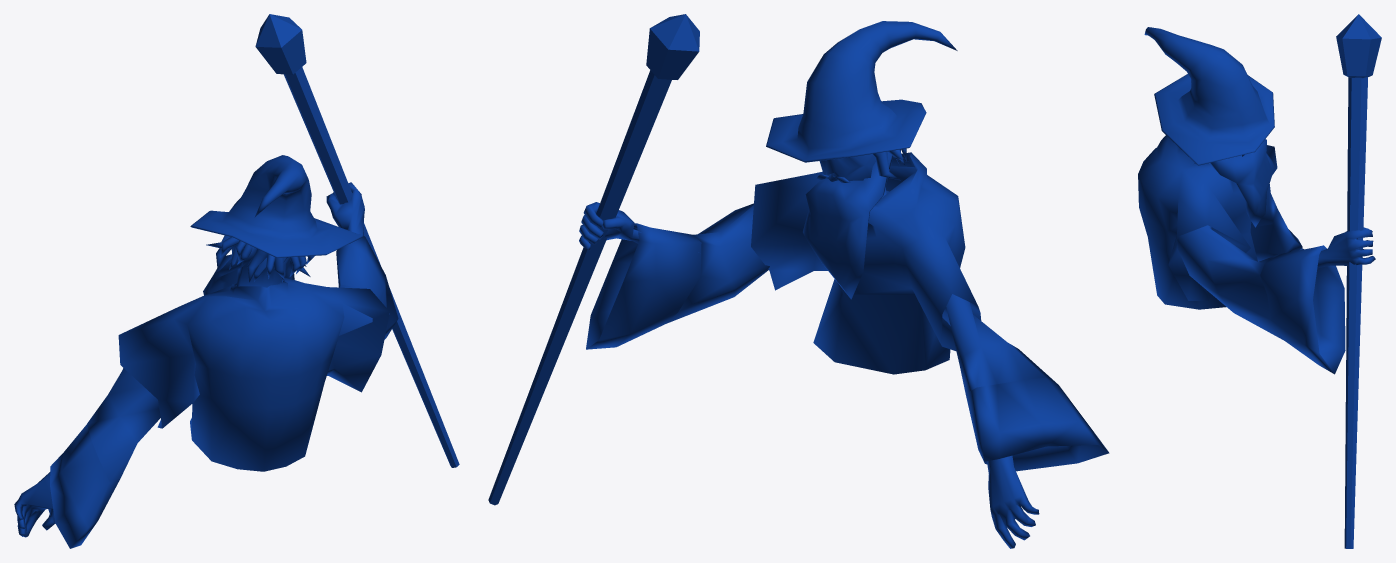
File: top_000057.obj
3 views of the same model, side by side, from view 1: azimuth 30°, elevation 25°; view 2: azimuth 150°, elevation 25°; view 3: azimuth 270°, elevation 25° (orthographic). The views are drawn at different scales.
Parts seen in each view (by area): view 1: Wizard.002_Plane.000; view 2: Wizard.002_Plane.000; view 3: Wizard.002_Plane.000.
Boxes of the visible parts, x1=… form: Wizard.002_Plane.000: x1=14, y1=14, x2=459, y2=548; Wizard.002_Plane.000: x1=488, y1=14, x2=1109, y2=548; Wizard.002_Plane.000: x1=1138, y1=14, x2=1381, y2=548.
Size of the model in its own units: 1.67 by 1.65 by 0.801.
